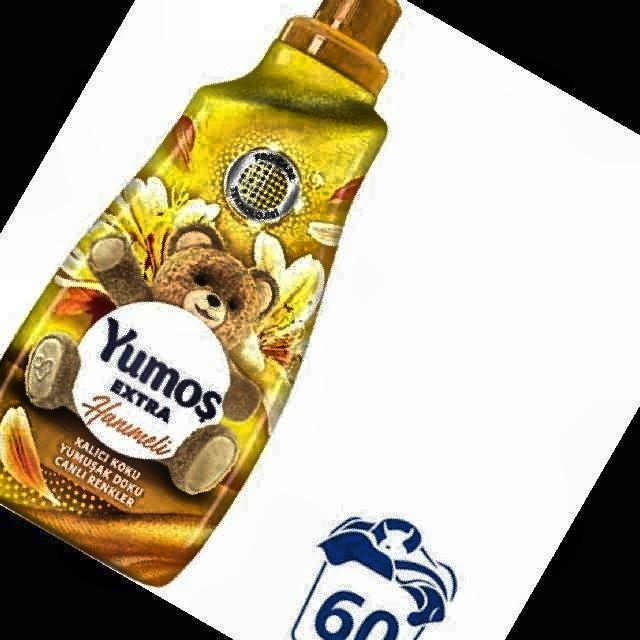plastic: (0, 0, 400, 584)
